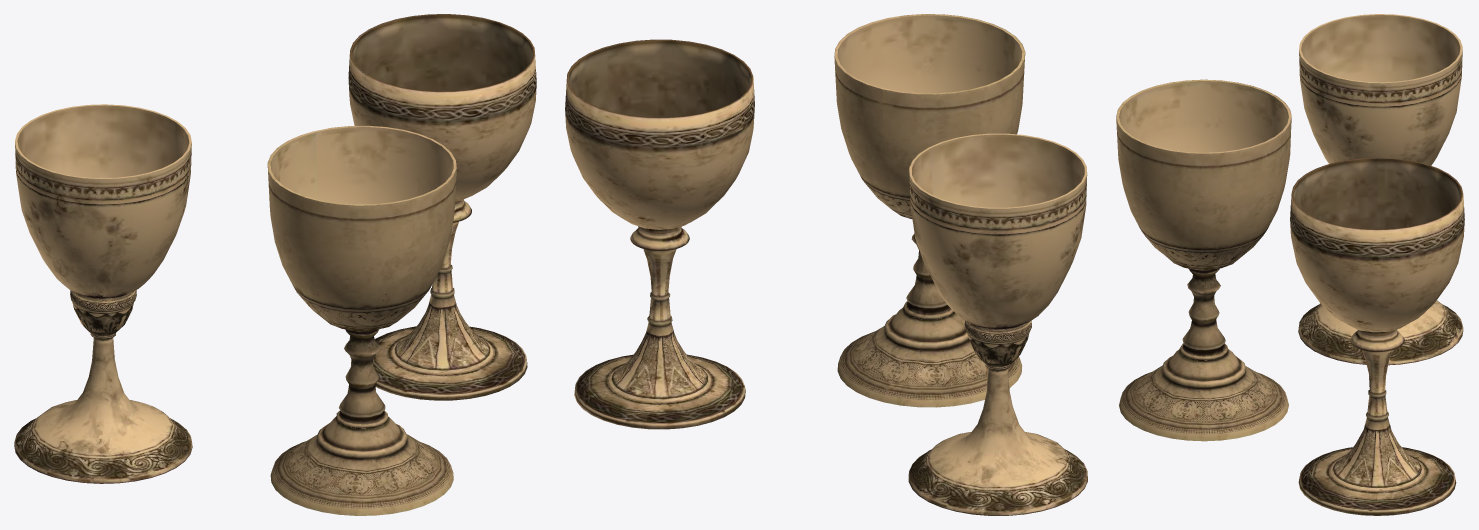
The model's file is brass_goblets.glb.
3 views of the same model, side by side, from view 1: azimuth 30°, elevation 25°; view 2: azimuth 150°, elevation 25°; view 3: azimuth 270°, elevation 25° (orthographic). The views are drawn at different scales.
Parts seen in each view (by area): view 1: brass_goblet_01, brass_goblet_02, brass_goblet_03; view 2: brass_goblet_02, brass_goblet_03, brass_goblet_01; view 3: brass_goblet_01, brass_goblet_03, brass_goblet_02.
Part boxes in pixels (<box>): brass_goblet_01: <box>267,125,456,515</box>; brass_goblet_02: <box>14,104,192,483</box>; brass_goblet_03: <box>348,14,536,400</box>; brass_goblet_02: <box>908,133,1087,515</box>; brass_goblet_03: <box>565,39,754,429</box>; brass_goblet_01: <box>834,14,1025,407</box>; brass_goblet_01: <box>1116,79,1291,441</box>; brass_goblet_03: <box>1290,157,1464,515</box>; brass_goblet_02: <box>1298,14,1463,365</box>.
Bounding box in the file's own units: 0.4534 × 0.2734 × 0.2979.
Materials: 3 (3 with a texture image).
